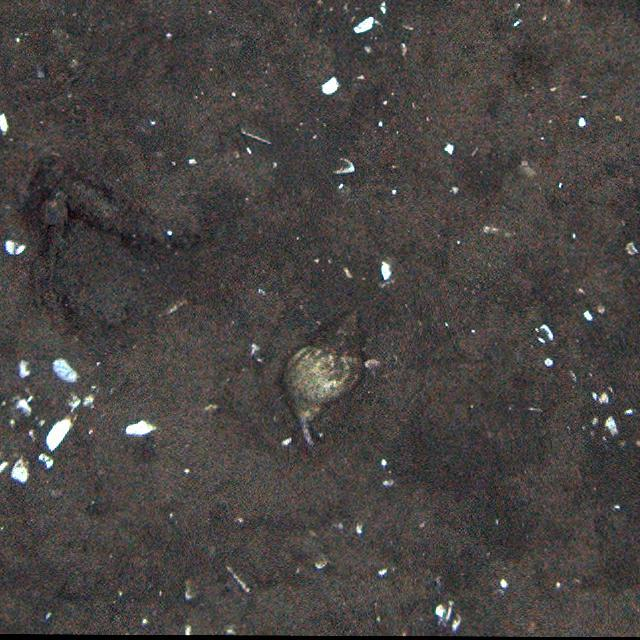whelk: (290, 310, 368, 412)
